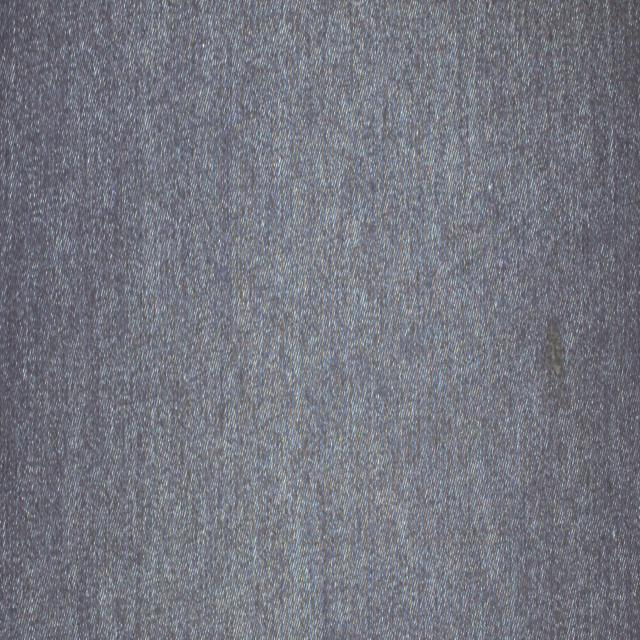Knot: (543, 320, 573, 410)
